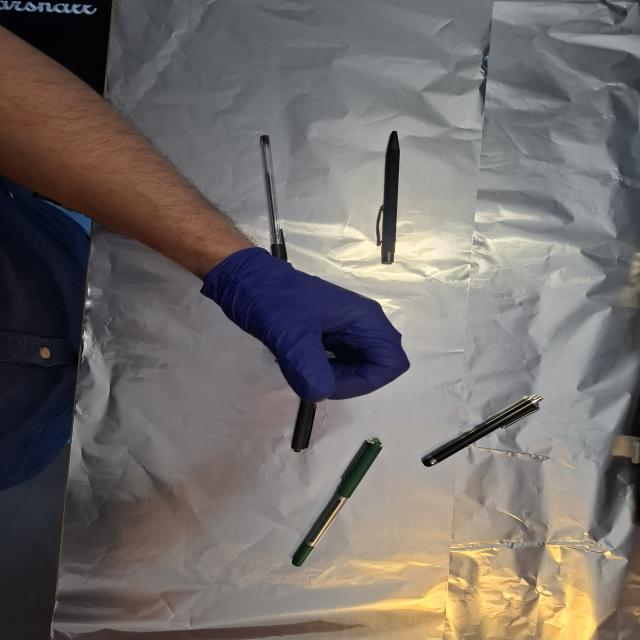glove_on: (197, 246, 416, 406)
